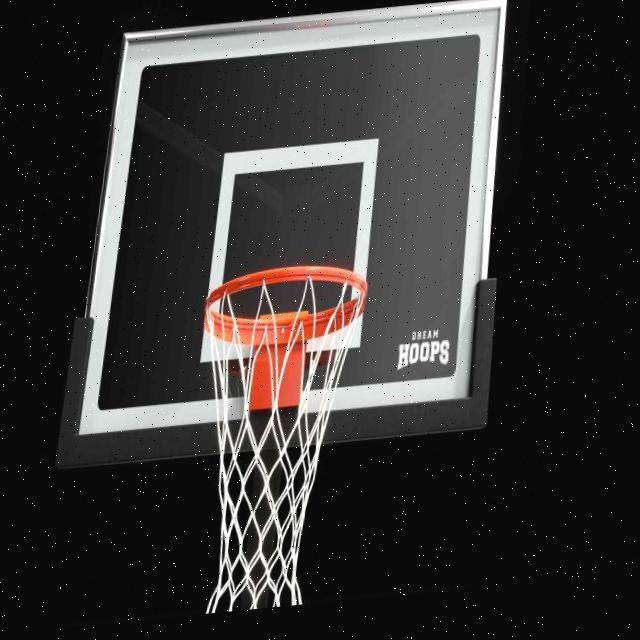hoop: (173, 258, 371, 617)
